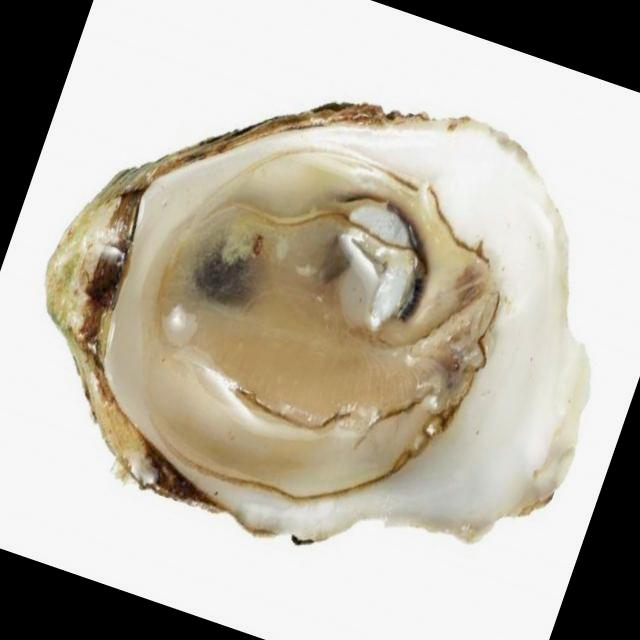Oyster-Open: (47, 102, 587, 546)
